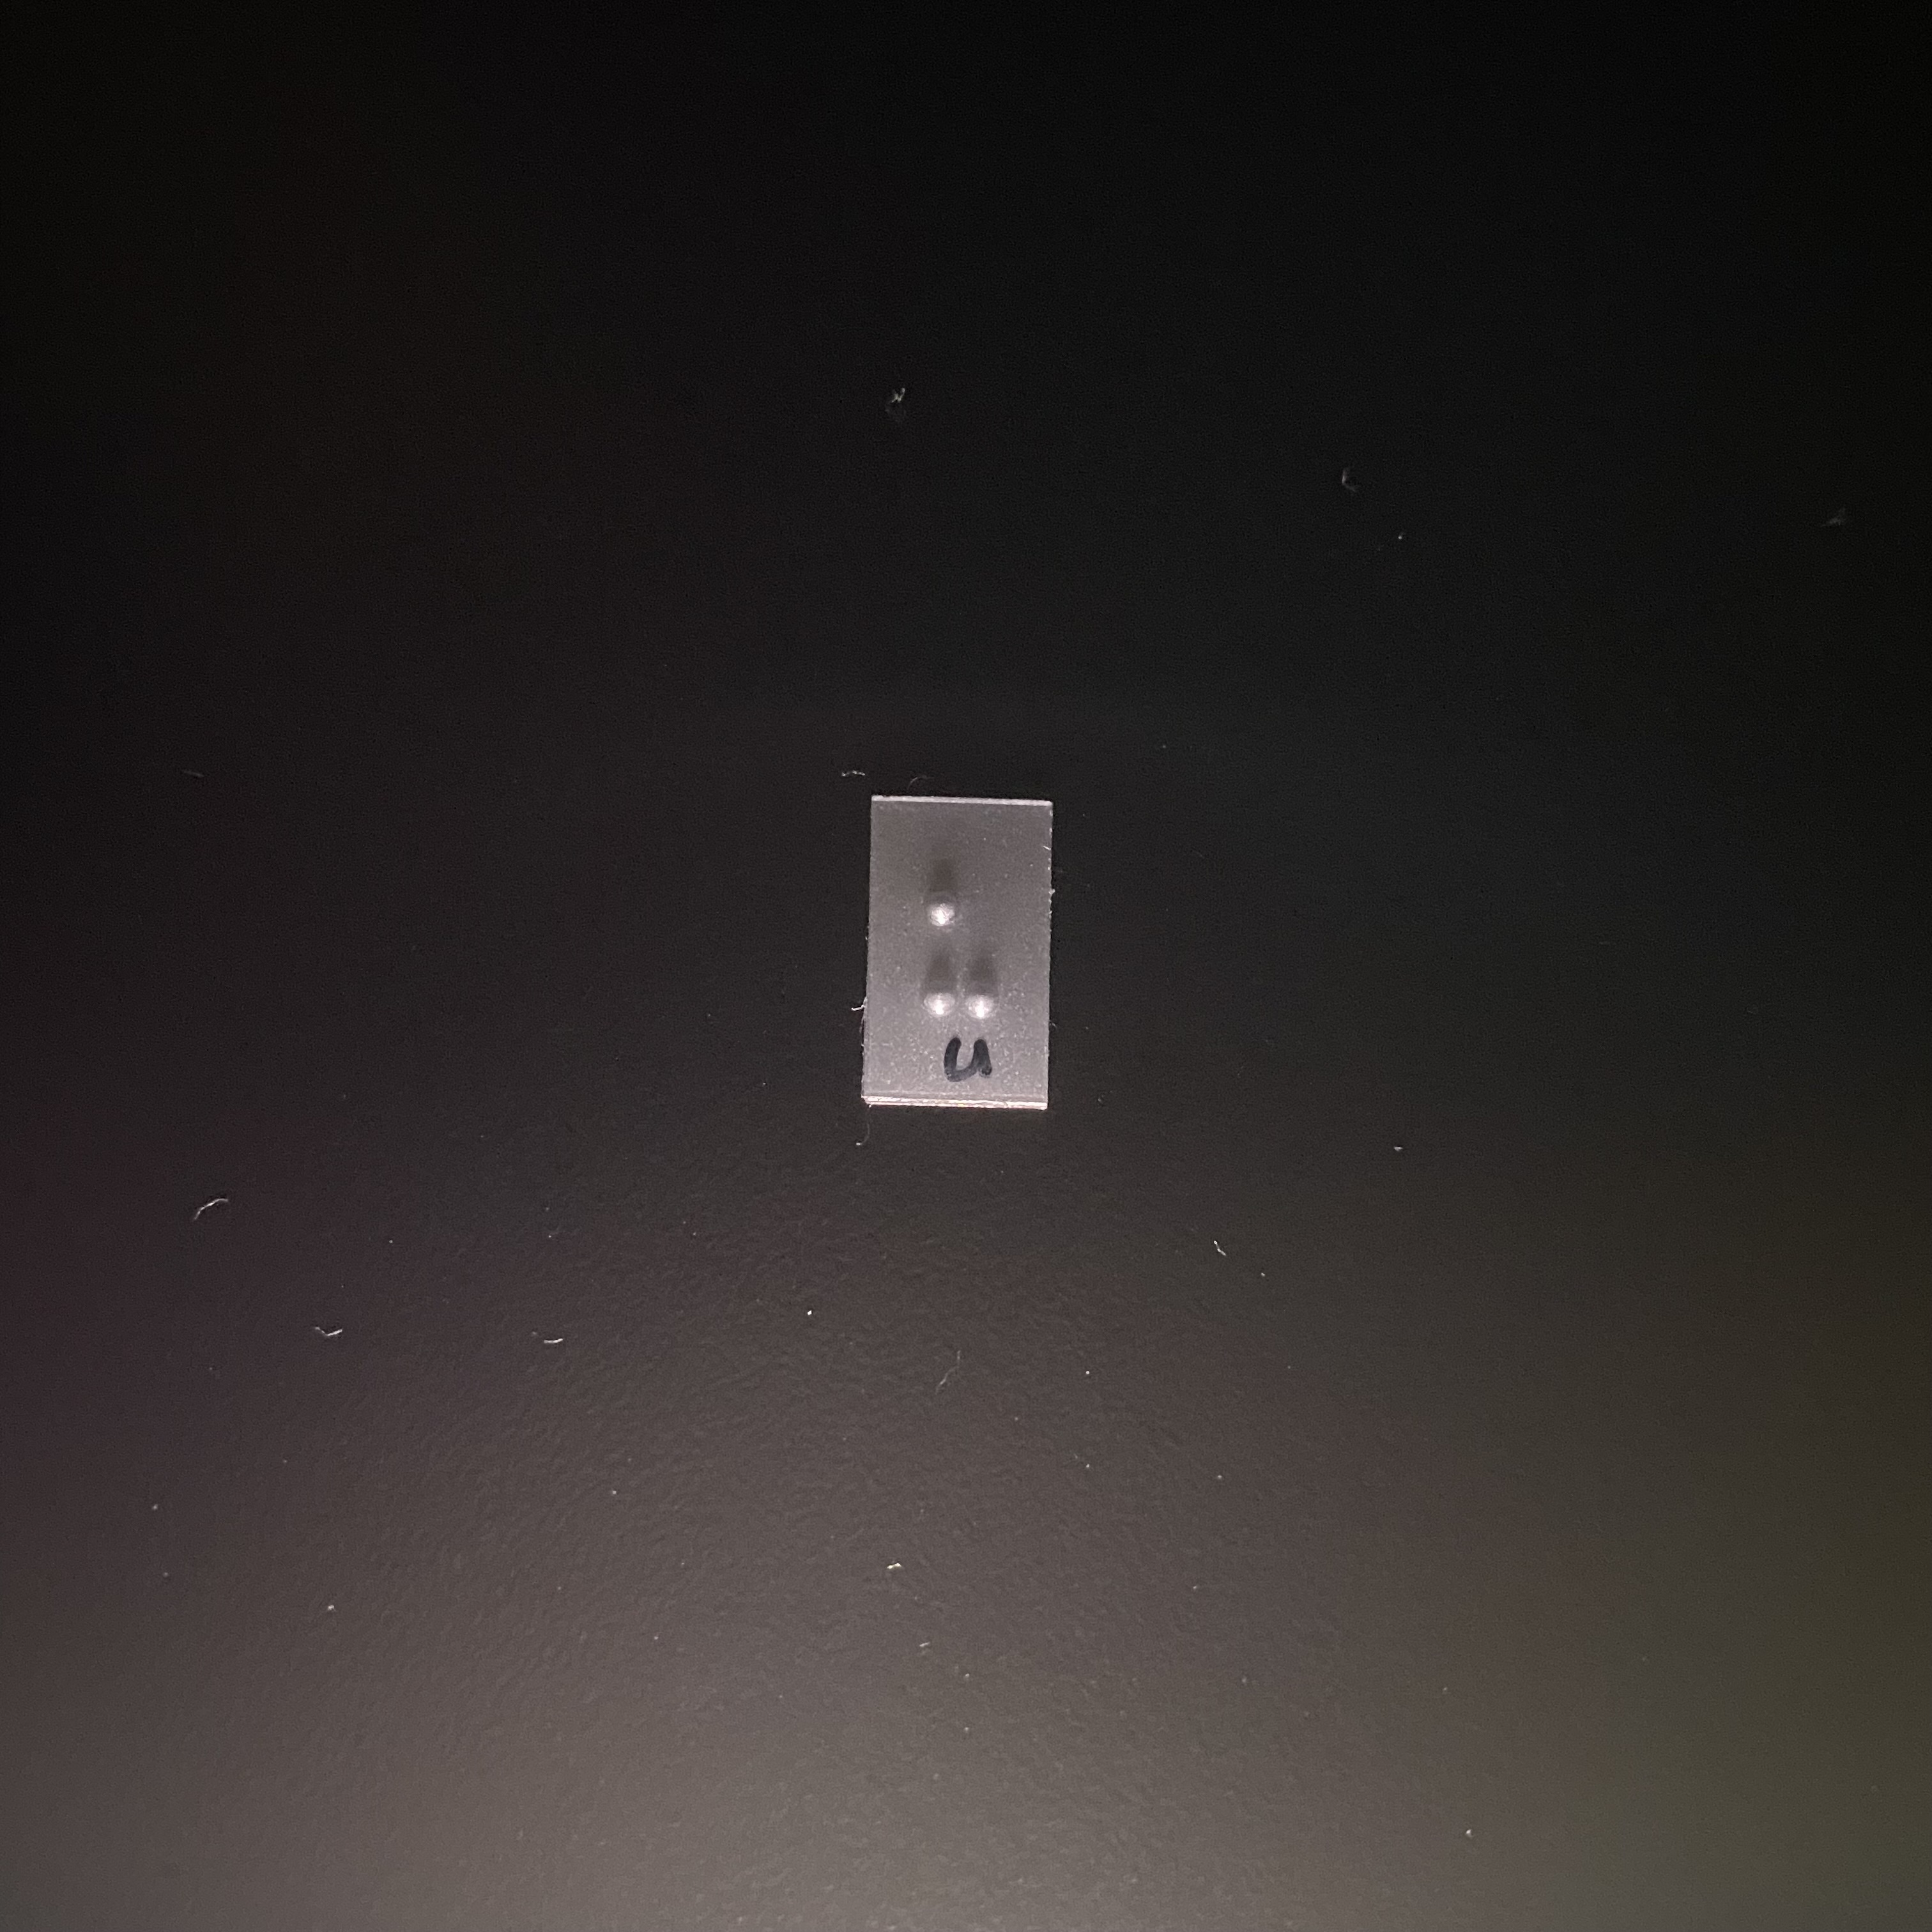u: (912, 863, 1009, 1029)
